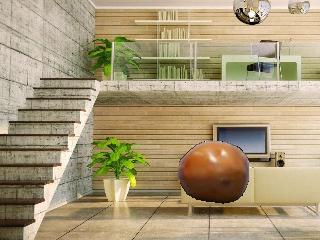potato: (176, 138, 252, 206)
